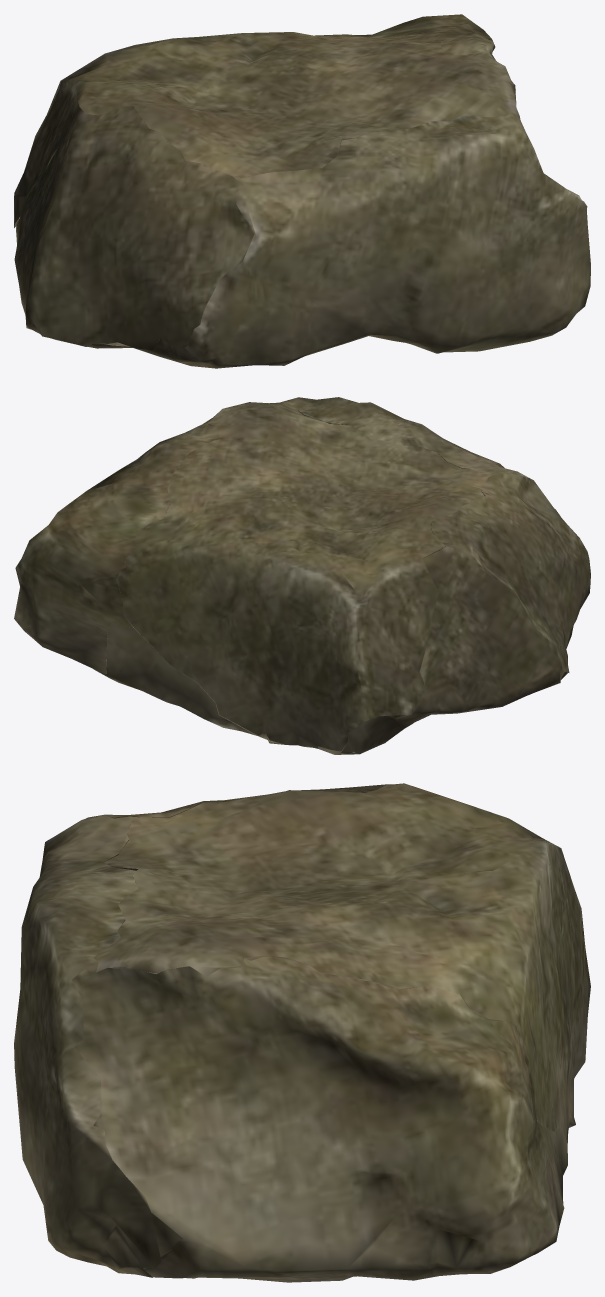
The model's file is pr_moss_b_01.fbx.
3 views of the same model, one above another, from view 1: azimuth 30°, elevation 25°; view 2: azimuth 150°, elevation 25°; view 3: azimuth 270°, elevation 25° (orthographic). The views are drawn at different scales.
Visible parts, largest first — view 1: pr_moss_b_01_LOD0; view 2: pr_moss_b_01_LOD0; view 3: pr_moss_b_01_LOD0.
Boxes of the visible parts, x1,y1,x2,y2 form: pr_moss_b_01_LOD0: [14, 14, 590, 368]; pr_moss_b_01_LOD0: [14, 397, 590, 754]; pr_moss_b_01_LOD0: [14, 783, 590, 1282].
Size of what is drawn, in the model's own units: 1.69 by 0.7451 by 1.22.
